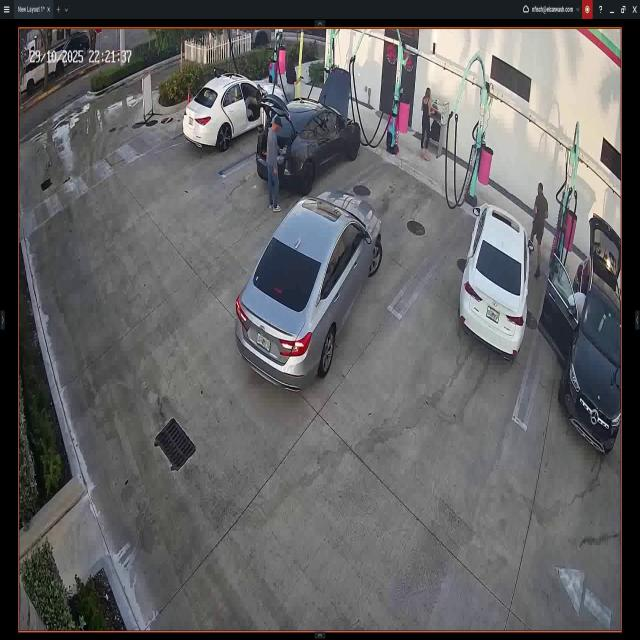Car: (237, 188, 384, 388), (539, 217, 619, 452), (256, 69, 361, 192), (454, 193, 527, 357), (181, 74, 285, 159)
